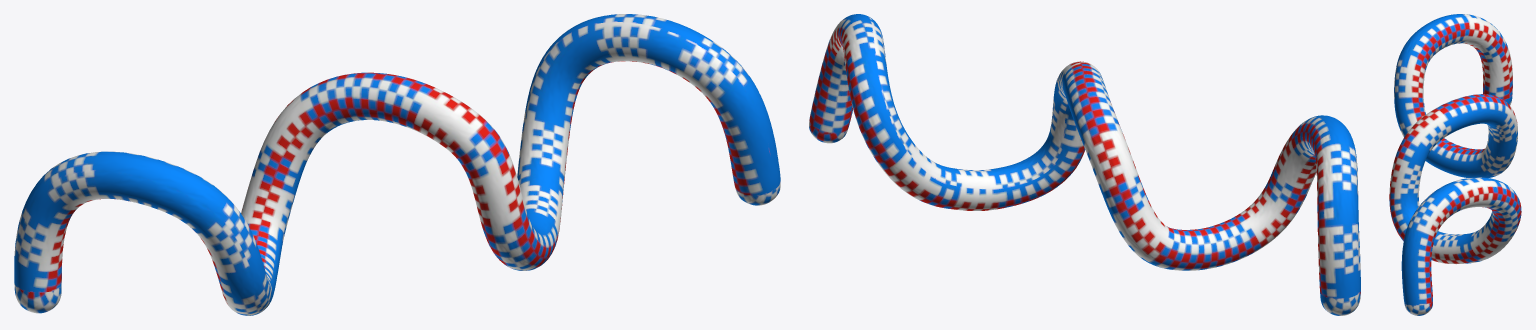
File: noodle.glb
The picture shows the model from 3 angles, left to right: view 1: azimuth 30°, elevation 25°; view 2: azimuth 150°, elevation 25°; view 3: azimuth 270°, elevation 25°; orthographic projection. The views are drawn at different scales.
Visible parts, largest first — view 1: Helix001; view 2: Helix001; view 3: Helix001.
Part boxes in pixels (<box>): Helix001: <box>14,14,780,315</box>; Helix001: <box>809,14,1360,315</box>; Helix001: <box>1389,14,1521,315</box>.
Size of the model in its own units: 94.46 by 25.49 by 24.86.
Materials: 1 (1 with a texture image).
